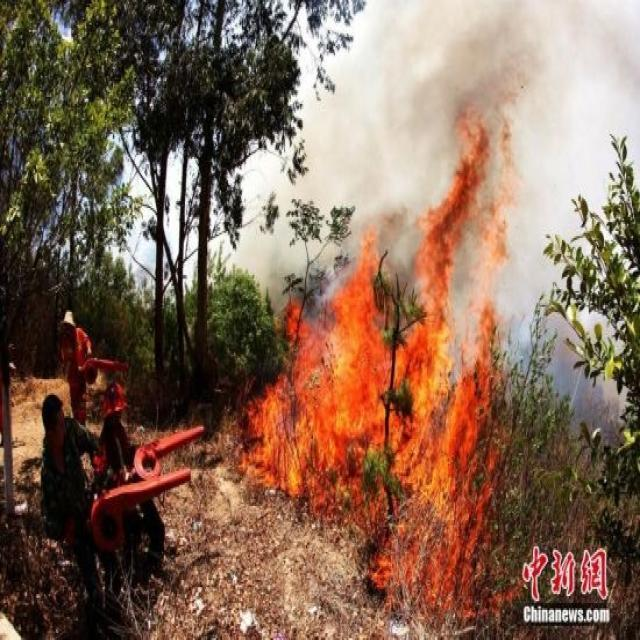Fire: (236, 98, 530, 628)
Smoke: (514, 108, 640, 436), (315, 0, 640, 104)
